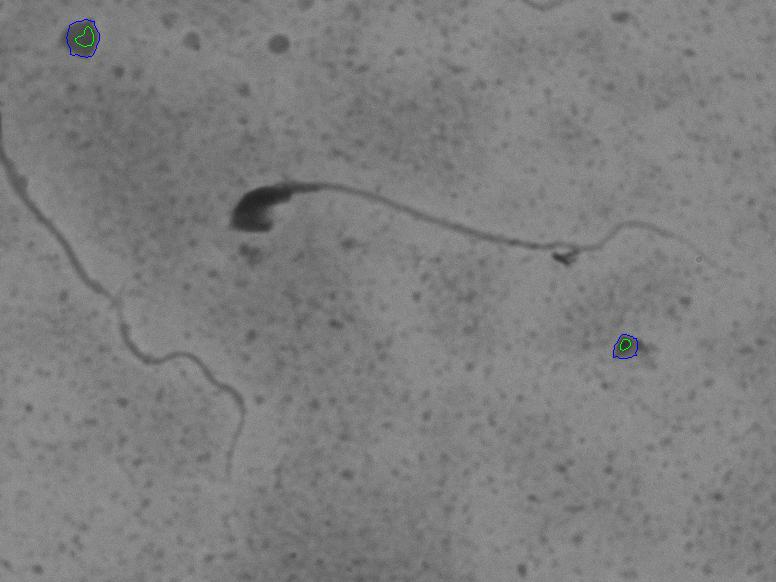Abnormal: (217, 140, 740, 281)
